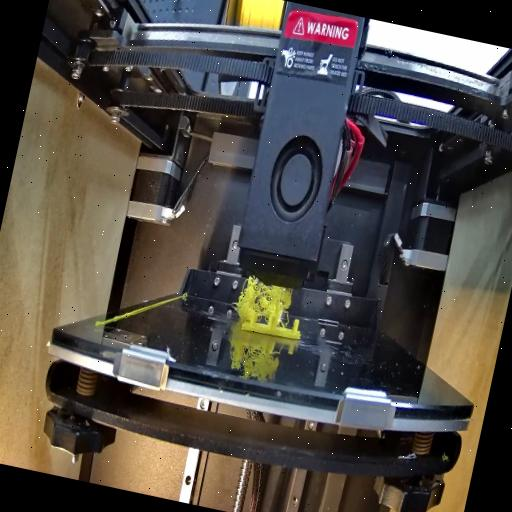spaghetti: (234, 274, 296, 328)
